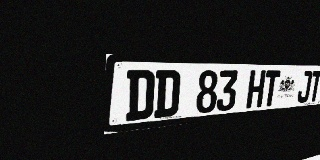3: (216, 70, 238, 112)
8: (195, 70, 219, 114)
D: (125, 70, 155, 121), (154, 70, 181, 118)
H: (246, 70, 266, 109)
J: (296, 71, 313, 103)
T: (262, 70, 281, 107), (308, 71, 320, 102)
